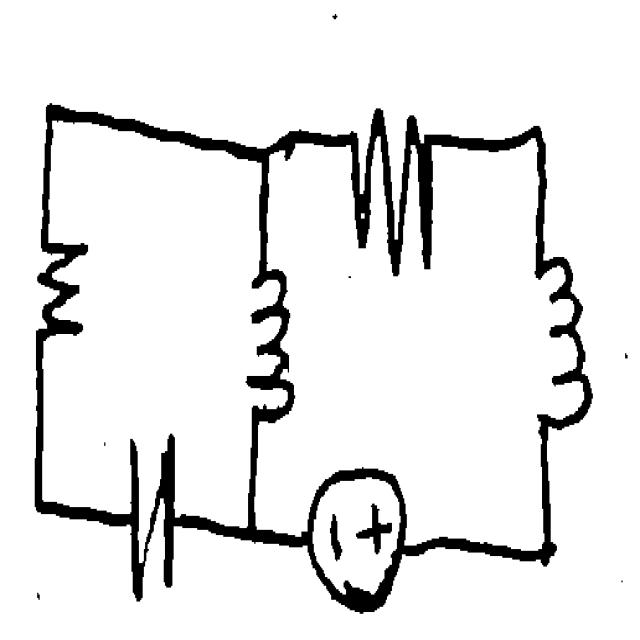capacitor: (112, 422, 186, 613)
dc: (301, 458, 412, 617)
inductor: (523, 238, 599, 454), (234, 250, 308, 440)
resistor: (330, 94, 455, 290), (24, 224, 95, 357)
